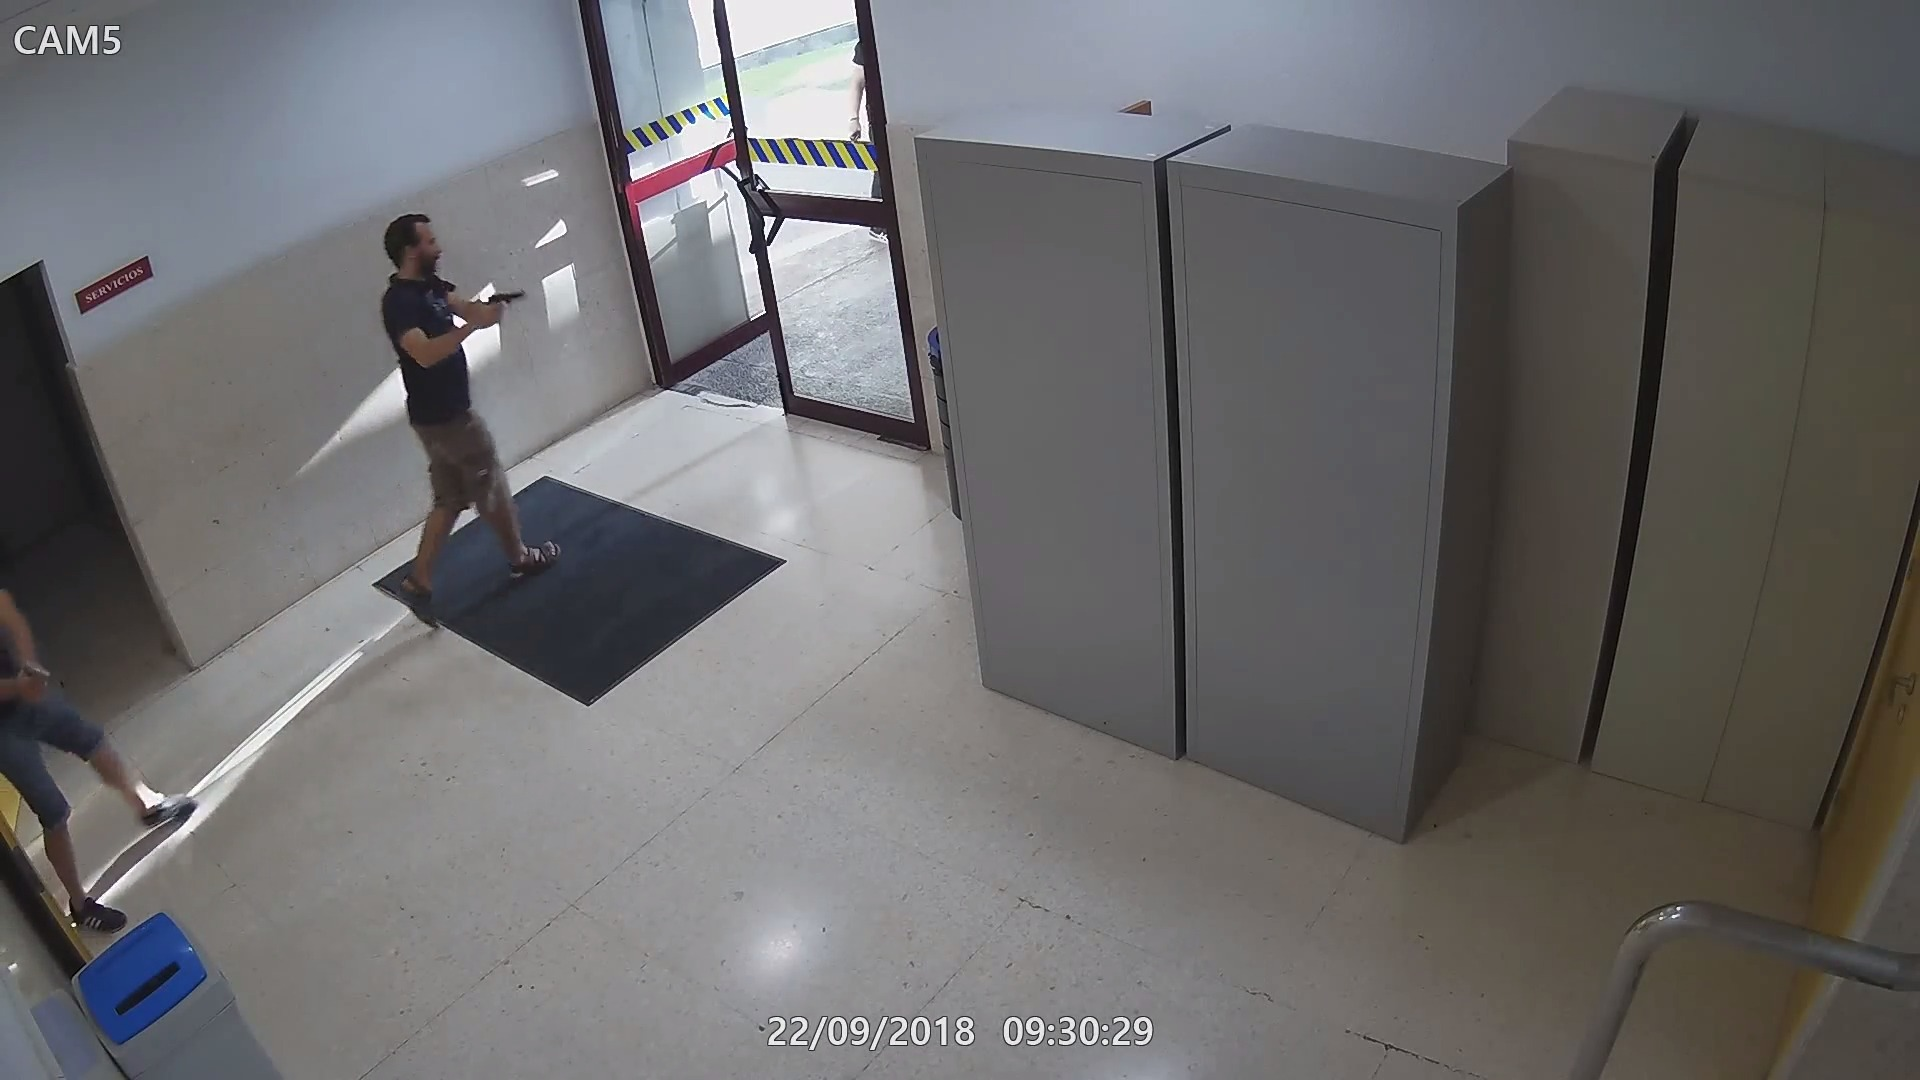pistol: (472, 286, 527, 334), (17, 658, 51, 700)
